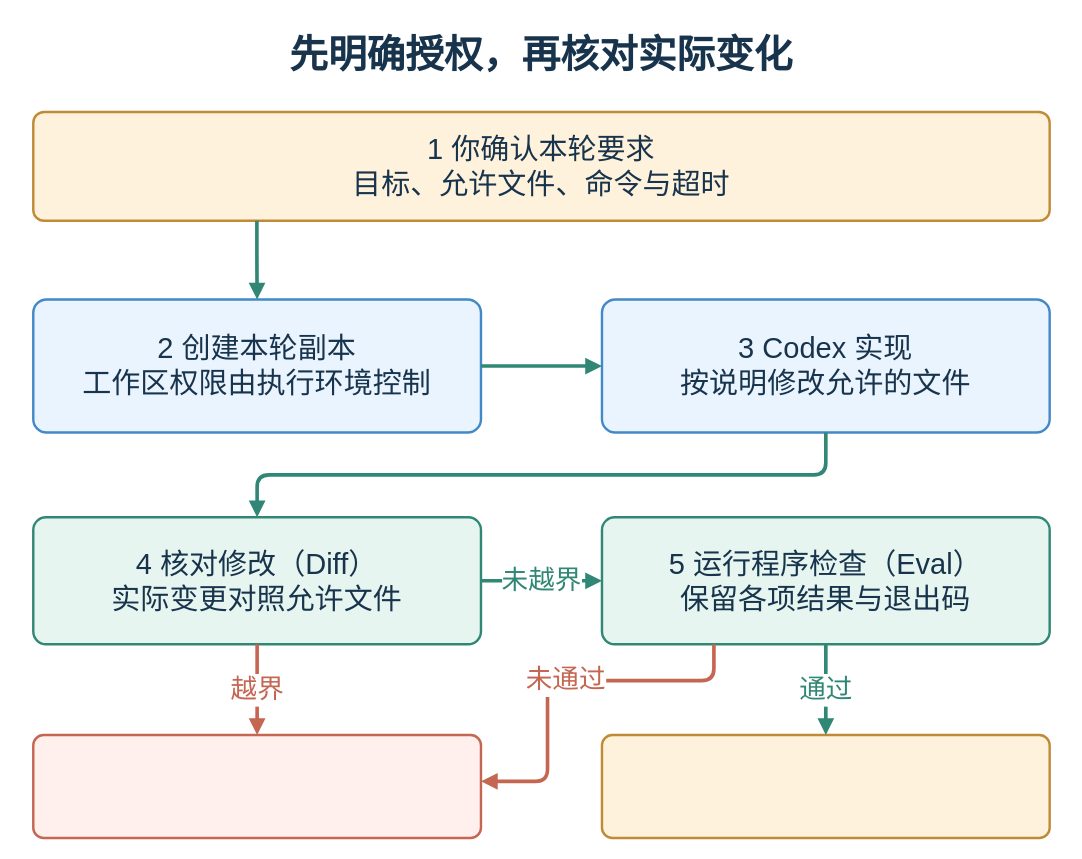
This 1082x859 diagram has some shape labels left out. Here are the shapes that lost their labels. From the top down, the box of each, then its label:
(31, 733, 482, 839): 越界、工具失败或超时 保留现场，停止推进
(600, 733, 1050, 839): 6 由指定的人验收 按结果记录接受或退回
